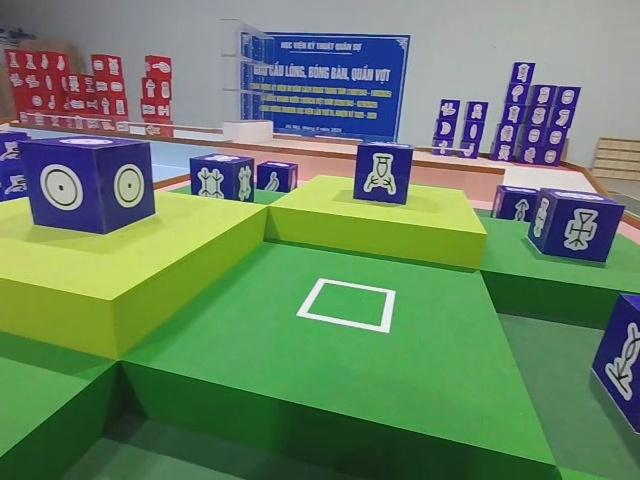R2 Real Blue: (18, 135, 154, 236), (526, 188, 625, 265), (592, 294, 640, 440), (352, 141, 413, 207), (189, 153, 255, 204), (489, 187, 542, 224), (254, 160, 300, 193)
